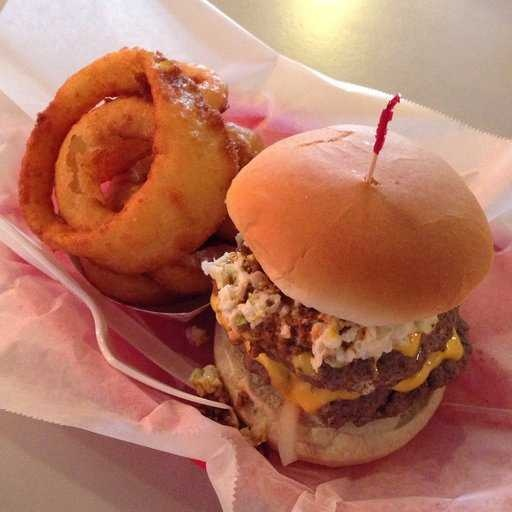hamburger: (190, 110, 489, 467)
